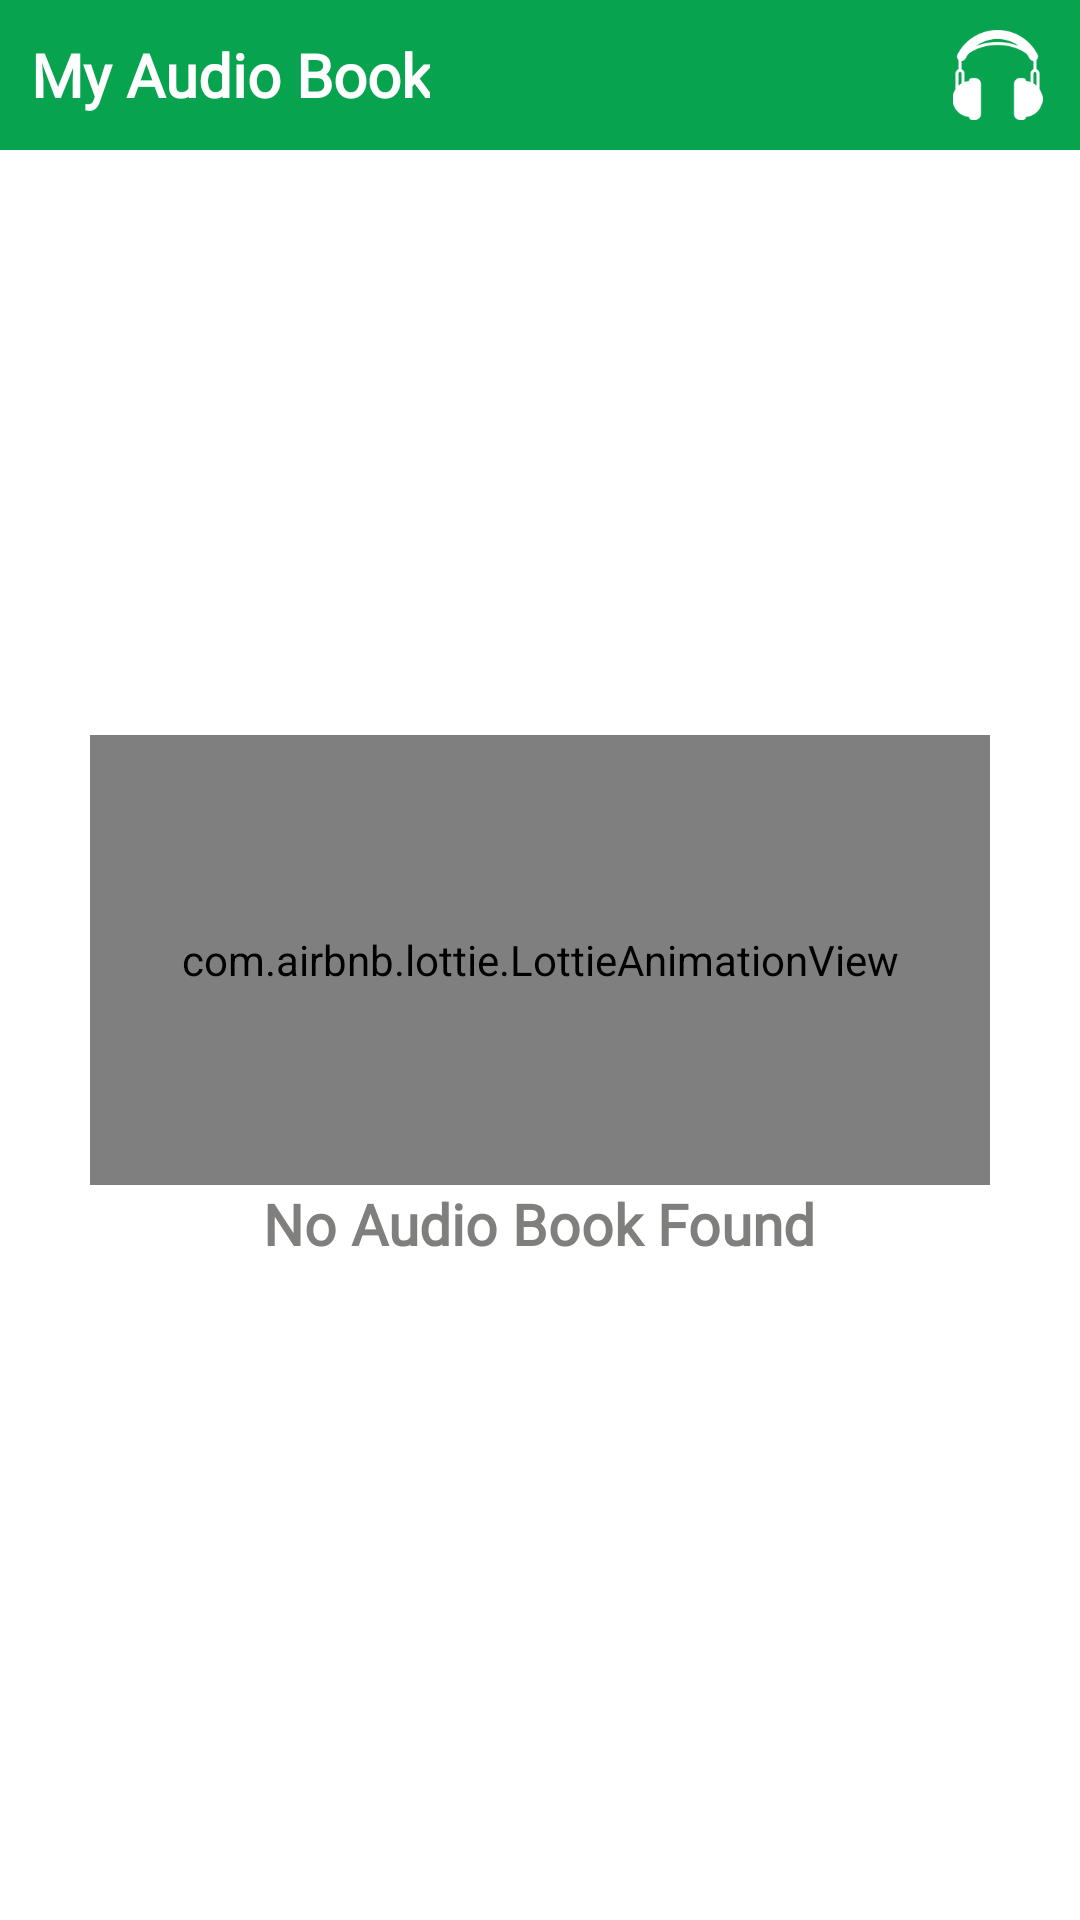

Screen size 1080×1920. Icon name, then its center in pixels as point (x, y):
headphone: point (998, 75)
